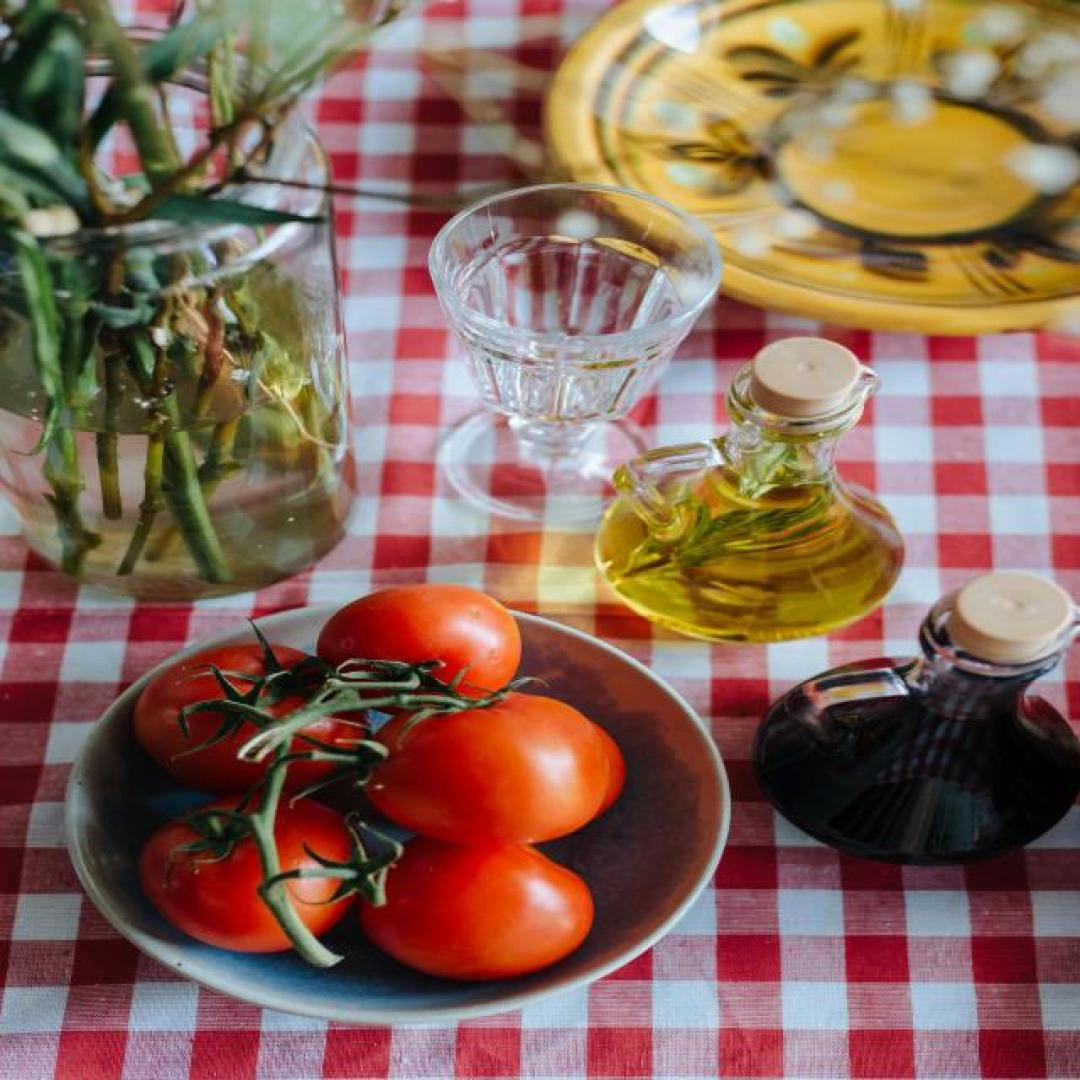matang: (366, 692, 626, 844), (132, 644, 368, 800), (130, 793, 363, 950), (361, 838, 596, 981), (316, 588, 523, 716)
